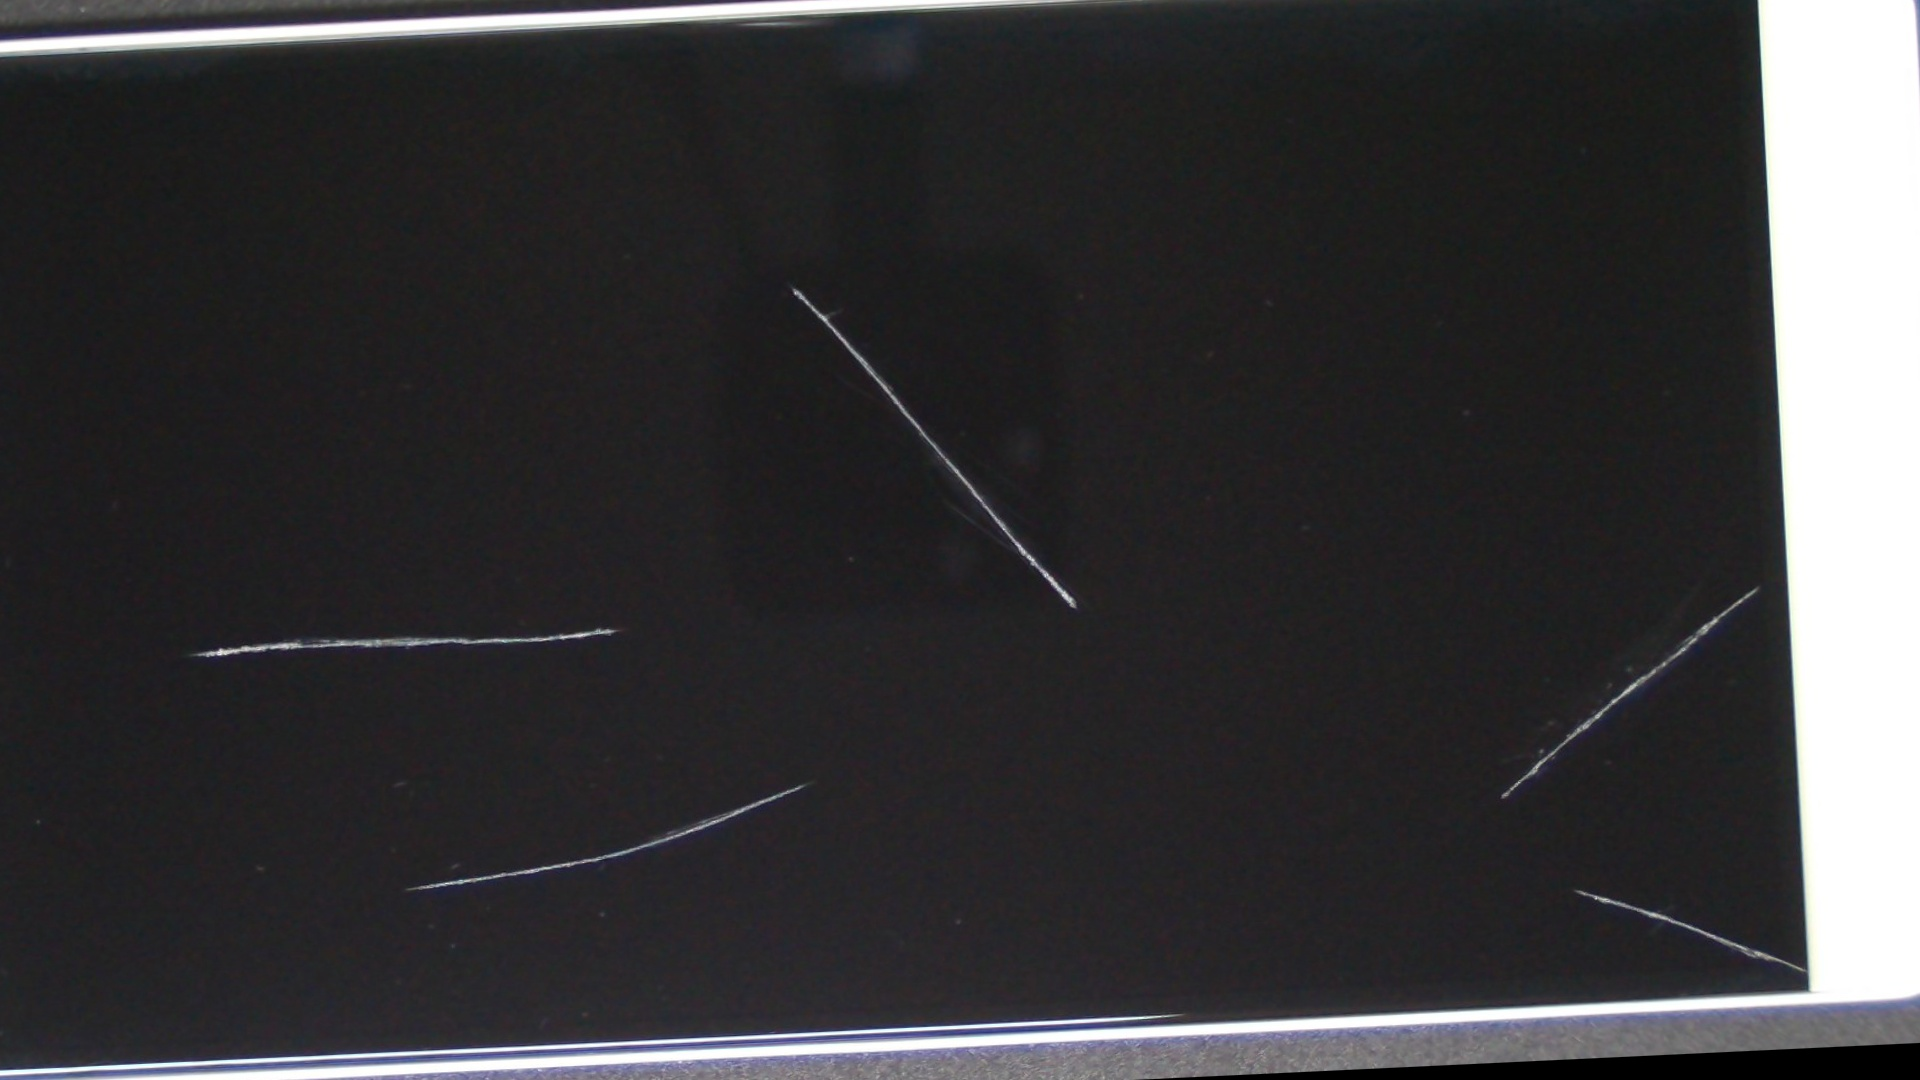oil: (745, 203, 1920, 1004), (651, 349, 1920, 1080), (268, 311, 1335, 1080), (260, 59, 1320, 508), (7, 262, 559, 1011)
